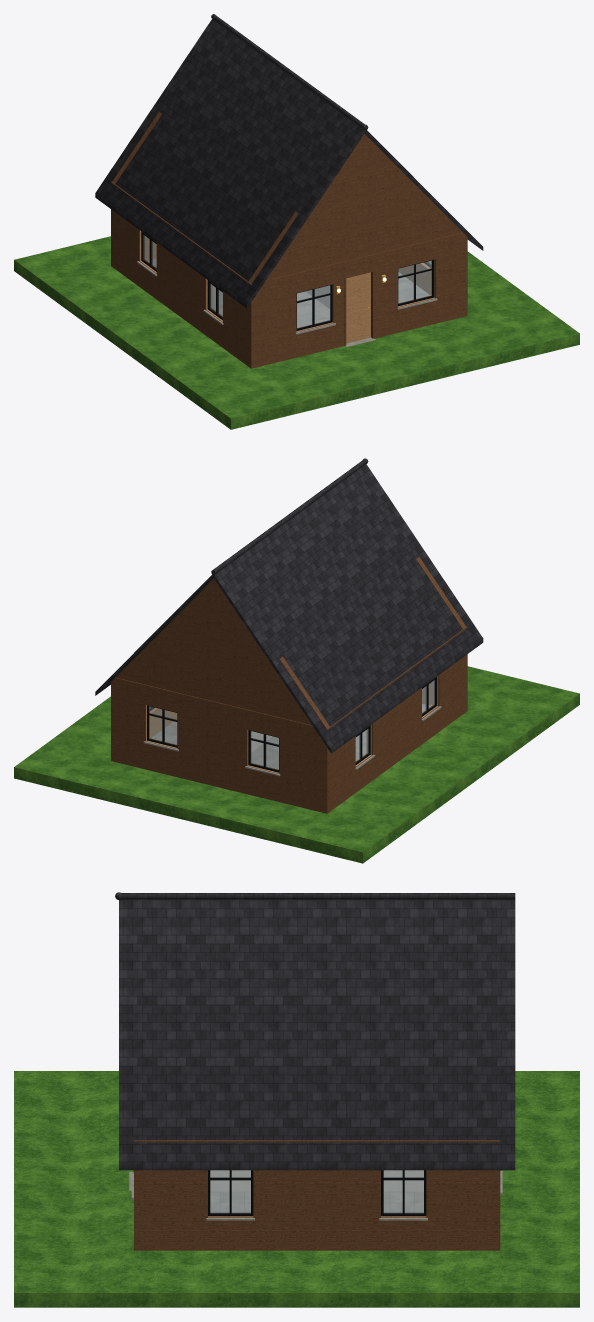
The model's file is b_nordic_cabin.gltf.
3 views of the same model, one above another, from view 1: azimuth 30°, elevation 25°; view 2: azimuth 150°, elevation 25°; view 3: azimuth 270°, elevation 25° (orthographic). The views are drawn at different scales.
Visible parts, largest first — view 1: S_nordic_cabin, D_nordic_cabin_F1_S2_Door0; view 2: S_nordic_cabin; view 3: S_nordic_cabin.
Part boxes in pixels (box(x1,y1,x2,y2)): S_nordic_cabin: box(14, 14, 579, 429); D_nordic_cabin_F1_S2_Door0: box(346, 272, 370, 343); S_nordic_cabin: box(14, 458, 579, 863); S_nordic_cabin: box(14, 892, 579, 1307).
Size of the model in its own units: 13 by 8.3 by 14.
Materials: 14 (9 with a texture image).
